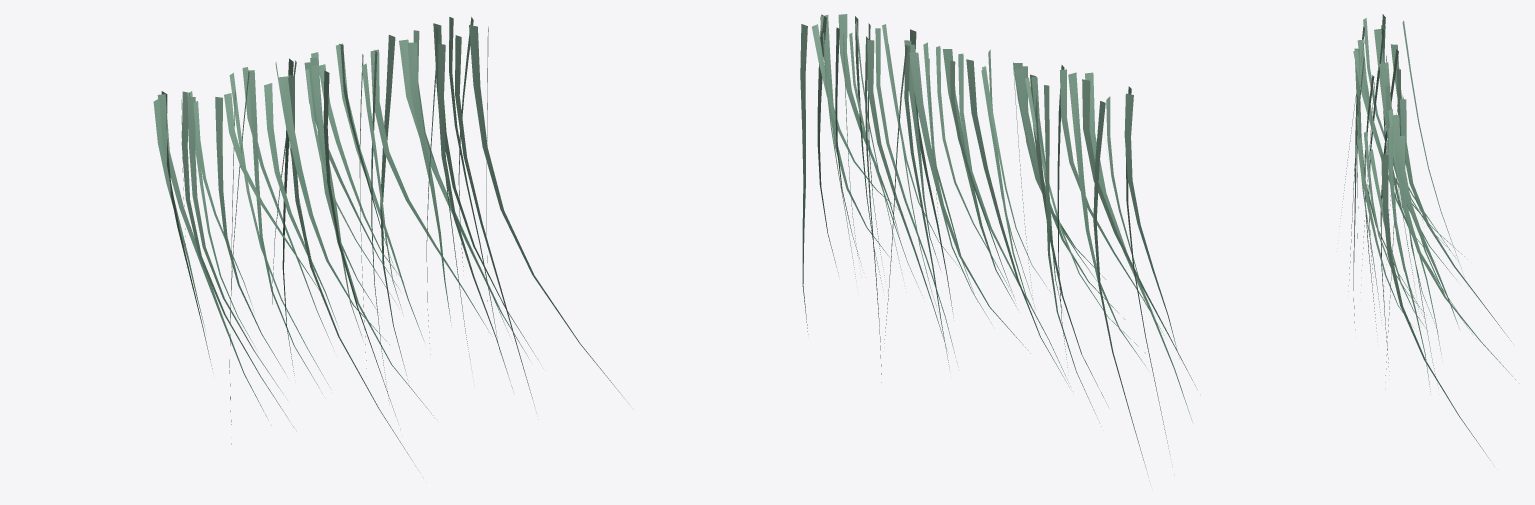
The model's file is mesh-plant-042-teardrop-veil_LOD1.glb.
3 views of the same model, side by side, from view 1: azimuth 30°, elevation 25°; view 2: azimuth 150°, elevation 25°; view 3: azimuth 270°, elevation 25° (orthographic). The views are drawn at different scales.
Parts seen in each view (by area): view 1: geometry_0; view 2: geometry_0; view 3: geometry_0.
Boxes of the visible parts, left/top/right/bottom form: geometry_0: left=153, top=17, right=629, bottom=470; geometry_0: left=800, top=14, right=1197, bottom=474; geometry_0: left=1339, top=14, right=1515, bottom=460.
Size of the model in its own units: 3.41 by 2.33 by 1.96.
